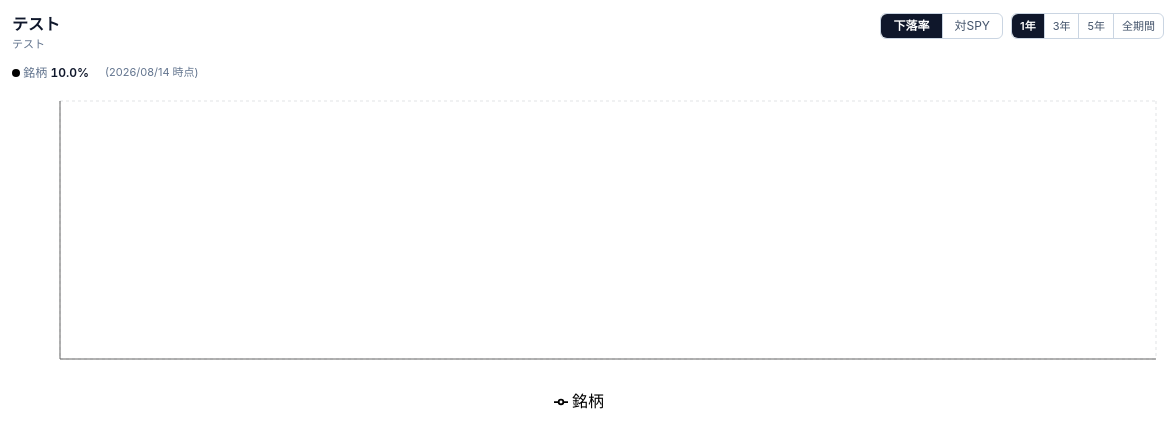
Test: 下落率チャート (#128) › 対SPYモードでは起点が画面に出る (#289)
Check: the text "起点は" is not shown
Click the button "対SPY": [972, 26] box [942, 14, 1002, 38]
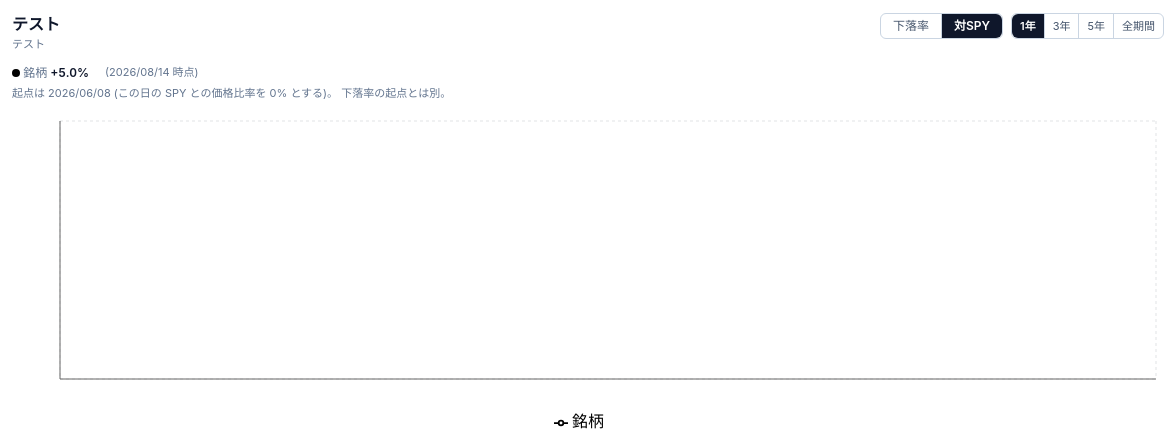
Check: the text "起点は 2026/06/08 (この日の SPY との価格比率を 0% とする)。 下落率の起点とは別。" is shown, box [12, 86, 451, 100]
